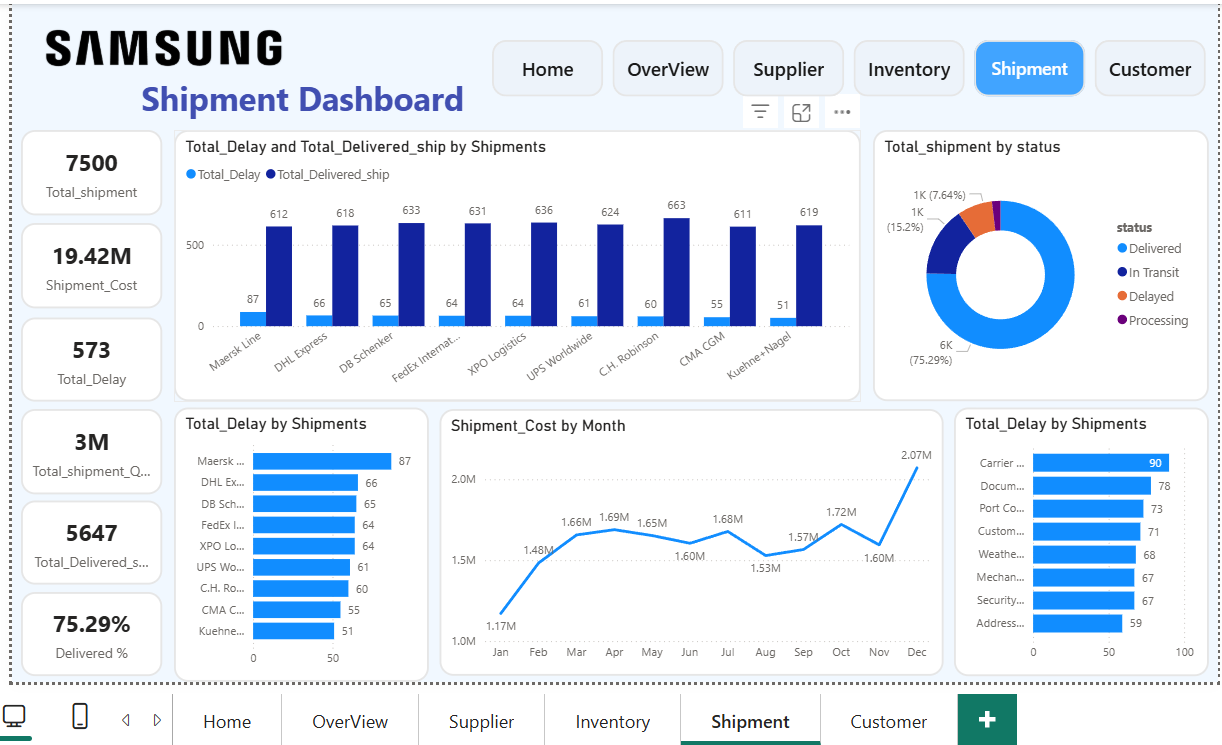

Layout of this report page (visuals, bound fields, positions):
{"tool":"powerbi","page":{"name":"Shipment","canvas":[1280,720],"ordinal":4},"visuals":[{"type":"card","fields":{"Values":["MeasuresTable.Total_Delivered_ship"]},"box":[9.6,527.3,149.7,89.2],"z":0},{"type":"card","fields":{"Values":["MeasuresTable.Total_shipment"]},"box":[9.6,133.8,149.7,90.8],"z":1000},{"type":"card","fields":{"Values":["MeasuresTable.Total_Delay"]},"box":[9.6,332.9,149.7,89.2],"z":2000},{"type":"card","fields":{"Values":["MeasuresTable.Shipment_Cost"]},"box":[9.6,232.6,149.7,90.8],"z":3000},{"type":"card","fields":{"Values":["MeasuresTable.Total_shipment_Quantity"]},"box":[9.6,430.1,149.7,90.8],"z":4000},{"type":"card","fields":{"Values":["MeasuresTable.Delivered %"]},"box":[9.6,624.4,149.7,89.2],"z":5000},{"type":"clusteredBarChart","title":"Total_Delay by Shipments","fields":{"Y":["MeasuresTable.Total_Delay"],"Category":["fact_shipment.carrier"]},"box":[172,428.5,270.8,291.5],"z":6000},{"type":"clusteredColumnChart","title":"Total_Delay and Total_Delivered_ship by Shipments","fields":{"Y":["MeasuresTable.Total_Delay","MeasuresTable.Total_Delivered_ship"],"Category":["fact_shipment.carrier"]},"box":[172,133.8,729.6,288.3],"z":7000},{"type":"lineChart","title":"Shipment_Cost by Month","fields":{"Y":["MeasuresTable.Shipment_Cost"],"Category":["dim_date.Month_Short"]},"box":[454,430.1,535.2,283.5],"z":8000},{"type":"clusteredBarChart","title":"Total_Delay by Shipments","fields":{"Category":["fact_shipment.delay_reason"],"Y":["MeasuresTable.Total_Delay"]},"box":[1000.4,428.5,270.8,285.1],"z":9000},{"type":"donutChart","fields":{"Category":["fact_shipment.status"],"Y":["MeasuresTable.Total_shipment"]},"box":[914.3,133.8,356.8,288.3],"z":10000},{"type":"pageNavigator","box":[509.7,38.2,761.4,60.5],"z":11000},{"type":"image","box":[15.9,6.4,278.8,79.6],"z":12000},{"type":"textbox","title":"Shipment Dashboard","box":[132.2,76.5,360,54.2],"z":13000}]}

Visuals, with their boxes on the page's 1280x720 design canvas (x1, y1, x2, y2). These are canvas units, not pixel positions in the 1222x745 screenshot, which may show the page scaled, cropped or inside an application window:
card - MeasuresTable.Total_Delivered_ship: 10,527,159,616
card - MeasuresTable.Total_shipment: 10,134,159,225
card - MeasuresTable.Total_Delay: 10,333,159,422
card - MeasuresTable.Shipment_Cost: 10,233,159,323
card - MeasuresTable.Total_shipment_Quantity: 10,430,159,521
card - MeasuresTable.Delivered %: 10,624,159,714
"Total_Delay by Shipments" clusteredBarChart: 172,428,443,720
"Total_Delay and Total_Delivered_ship by Shipments" clusteredColumnChart: 172,134,902,422
"Shipment_Cost by Month" lineChart: 454,430,989,714
"Total_Delay by Shipments" clusteredBarChart: 1000,428,1271,714
donutChart - fact_shipment.status x MeasuresTable.Total_shipment: 914,134,1271,422
pageNavigator: 510,38,1271,99
image: 16,6,295,86
"Shipment Dashboard" textbox: 132,76,492,131
